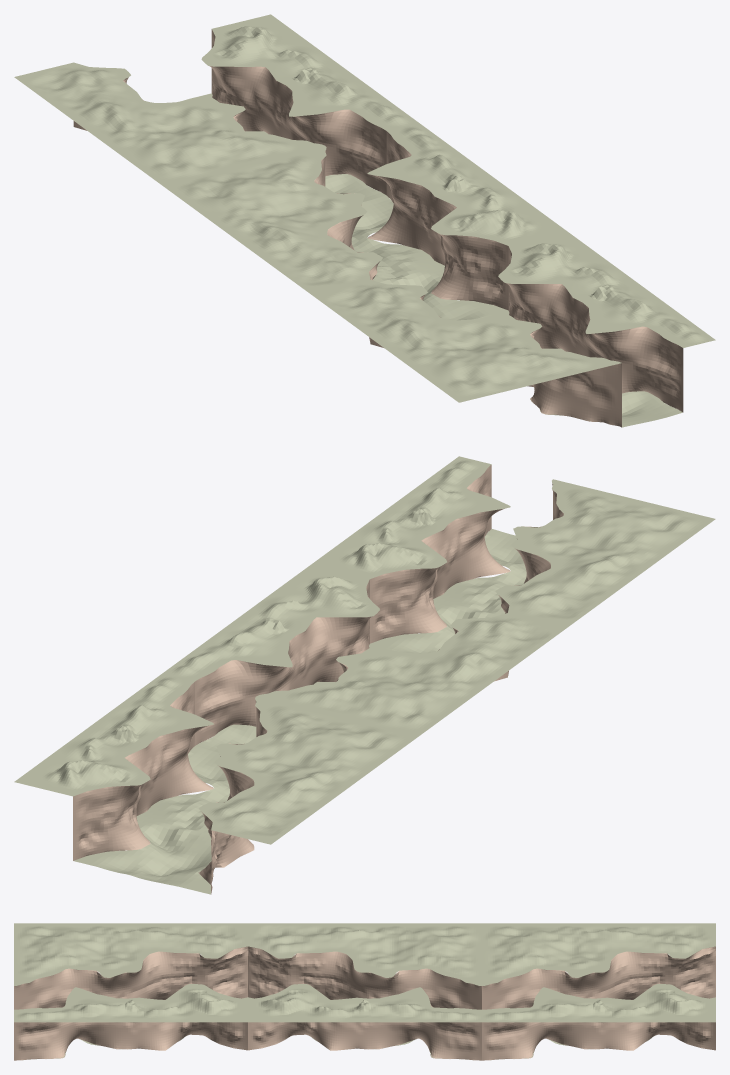
Rendered from GROUND-compressed.fbx.
3 renders of one model, top to bottom at view 1: azimuth 30°, elevation 25°; view 2: azimuth 150°, elevation 25°; view 3: azimuth 270°, elevation 25°, orthographic. The views are drawn at different scales.
Visible parts, largest first — view 1: Group18, Group6, Group12, Group10, Group16, Group4, Group3, Group15, Group9, Group11, Group2, Group5 (+2 smaller); view 2: Group12, Group6, Group18, Group10, Group4, Group16, Group9, Group15, Group3, Group17, Group5, Group14 (+2 smaller); view 3: Group6, Group18, Group12, Group2, Group14, Group8, Group3, Group15, Group9, Group4, Group16, Group10.
Part boxes in pixels (left/top/right/bottom): Group18: left=14, top=62, right=324, bottom=185; Group6: left=311, top=279, right=621, bottom=402; Group12: left=163, top=146, right=382, bottom=293; Group10: left=367, top=123, right=567, bottom=245; Group16: left=201, top=14, right=418, bottom=130; Group4: left=498, top=231, right=715, bottom=347; Group3: left=506, top=247, right=683, bottom=412; Group15: left=209, top=29, right=386, bottom=195; Group9: left=368, top=131, right=508, bottom=310; Group11: left=351, top=195, right=507, bottom=320; Group2: left=370, top=294, right=621, bottom=427; Group5: left=480, top=310, right=682, bottom=427; Group12: left=256, top=613, right=567, bottom=735; Group6: left=495, top=479, right=715, bottom=627; Group18: left=198, top=696, right=418, bottom=844; Group10: left=162, top=565, right=379, bottom=681; Group4: left=311, top=456, right=510, bottom=579; Group16: left=14, top=673, right=213, bottom=796; Group9: left=195, top=579, right=372, bottom=745; Group15: left=73, top=682, right=213, bottom=860; Group3: left=370, top=465, right=510, bottom=643; Group17: left=74, top=746, right=229, bottom=894; Group5: left=370, top=529, right=526, bottom=653; Group14: left=198, top=700, right=267, bottom=894; Group6: left=14, top=923, right=247, bottom=985; Group18: left=482, top=923, right=715, bottom=985; Group12: left=248, top=923, right=481, bottom=985; Group2: left=14, top=946, right=247, bottom=1009; Group14: left=482, top=946, right=715, bottom=1009; Group8: left=248, top=946, right=481, bottom=1009; Group3: left=14, top=1003, right=247, bottom=1060; Group15: left=482, top=1003, right=715, bottom=1060; Group9: left=248, top=1003, right=481, bottom=1060; Group4: left=14, top=984, right=247, bottom=1022; Group16: left=482, top=984, right=715, bottom=1022; Group10: left=248, top=984, right=481, bottom=1022.
Size of the model in its own units: 50 by 16.39 by 150.
